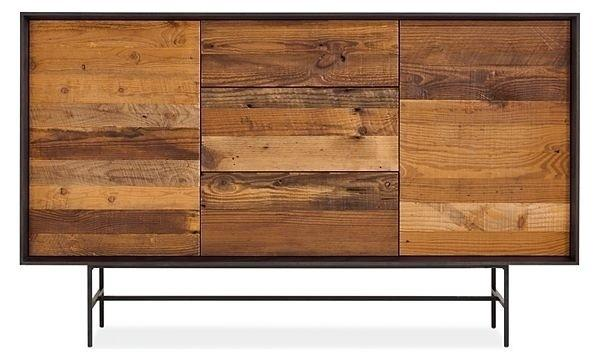cabinet_door: (29, 21, 201, 257), (401, 20, 570, 255), (200, 88, 398, 172), (202, 172, 399, 256), (203, 20, 398, 88)
